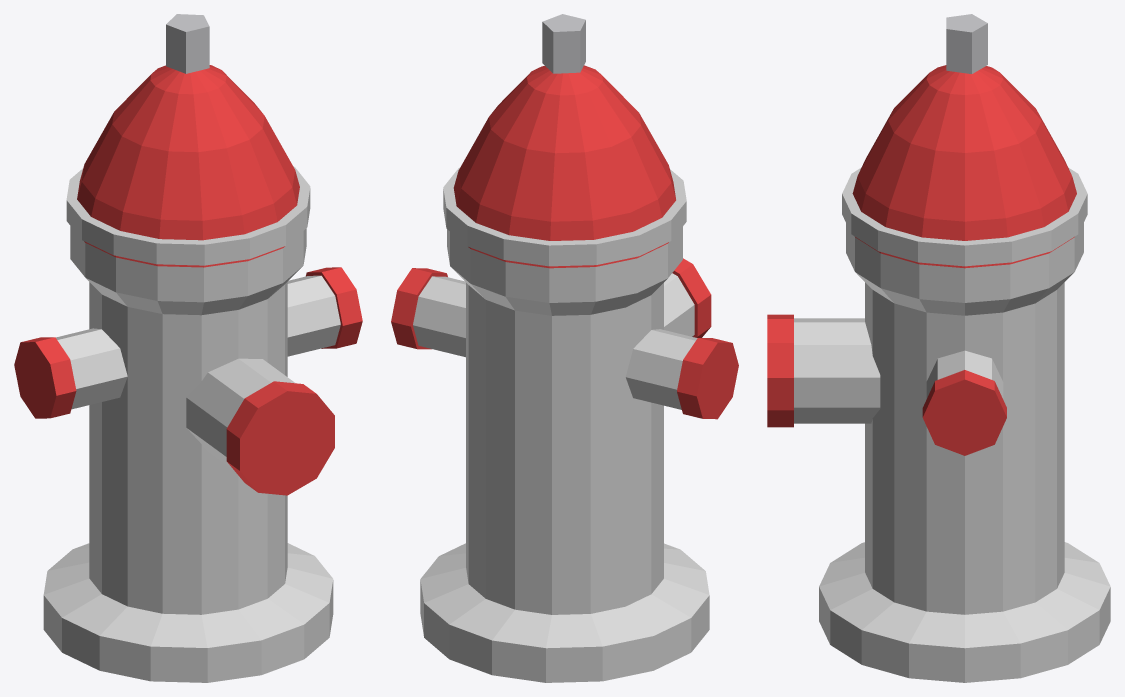
File: hydrant_sf_red.glb
The picture shows the model from 3 angles, left to right: view 1: azimuth 30°, elevation 25°; view 2: azimuth 150°, elevation 25°; view 3: azimuth 270°, elevation 25°; orthographic projection.
Visible parts, largest first — view 1: hydrant_sf_red; view 2: hydrant_sf_red; view 3: hydrant_sf_red.
Part boxes in pixels (x1,y1,x2,y2): hydrant_sf_red: [14, 14, 362, 682]; hydrant_sf_red: [391, 14, 738, 682]; hydrant_sf_red: [767, 14, 1110, 682].
Bounding box in the file's own units: 0.46 × 0.86 × 0.4475.
